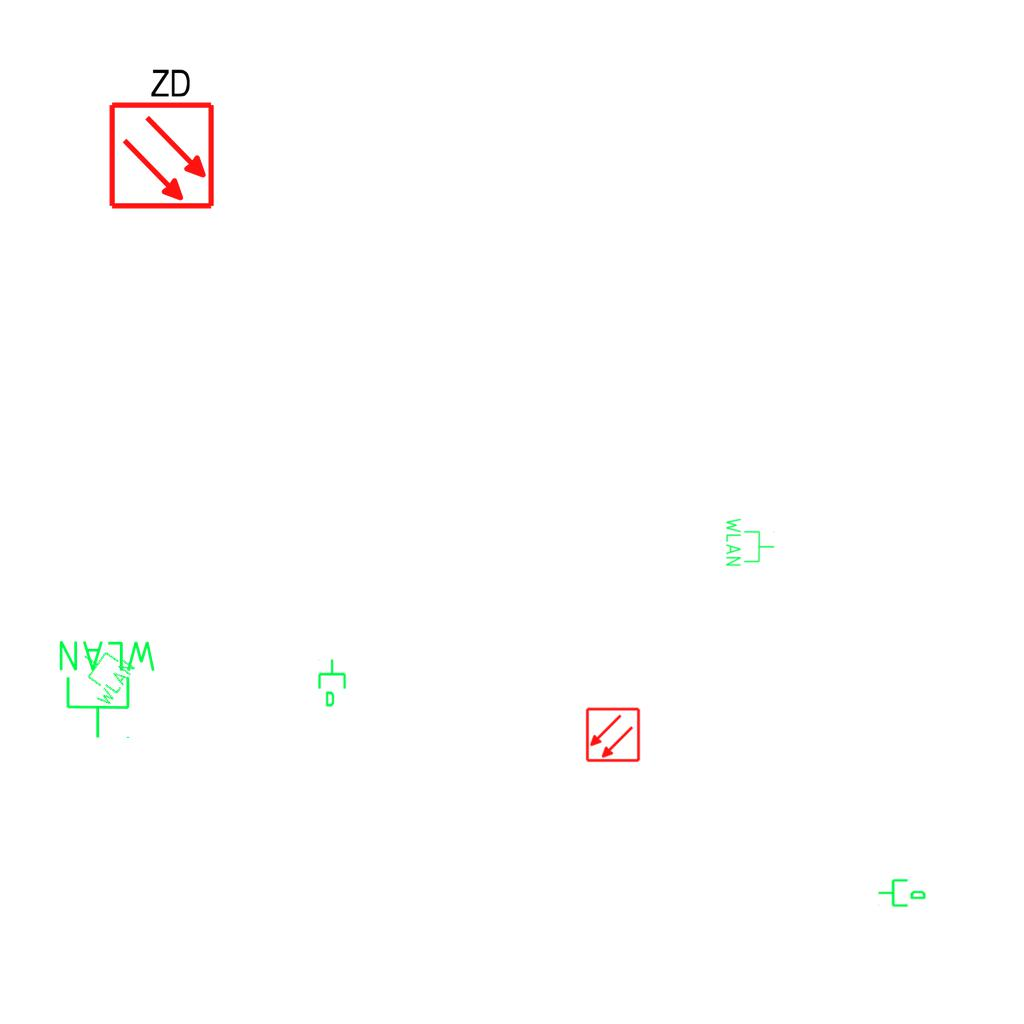Datenanschluss_einfach: (316, 658, 350, 708), (877, 875, 927, 909)
RMO_Rauchmelder_optischer: (585, 707, 641, 763)
WLAN: (55, 637, 160, 741), (65, 637, 139, 711), (724, 516, 776, 568)
ZD_Melder_in_Zwischendecke_mit_Revisionsoeffnung_mind_40_x_40_cm: (103, 62, 217, 211)
